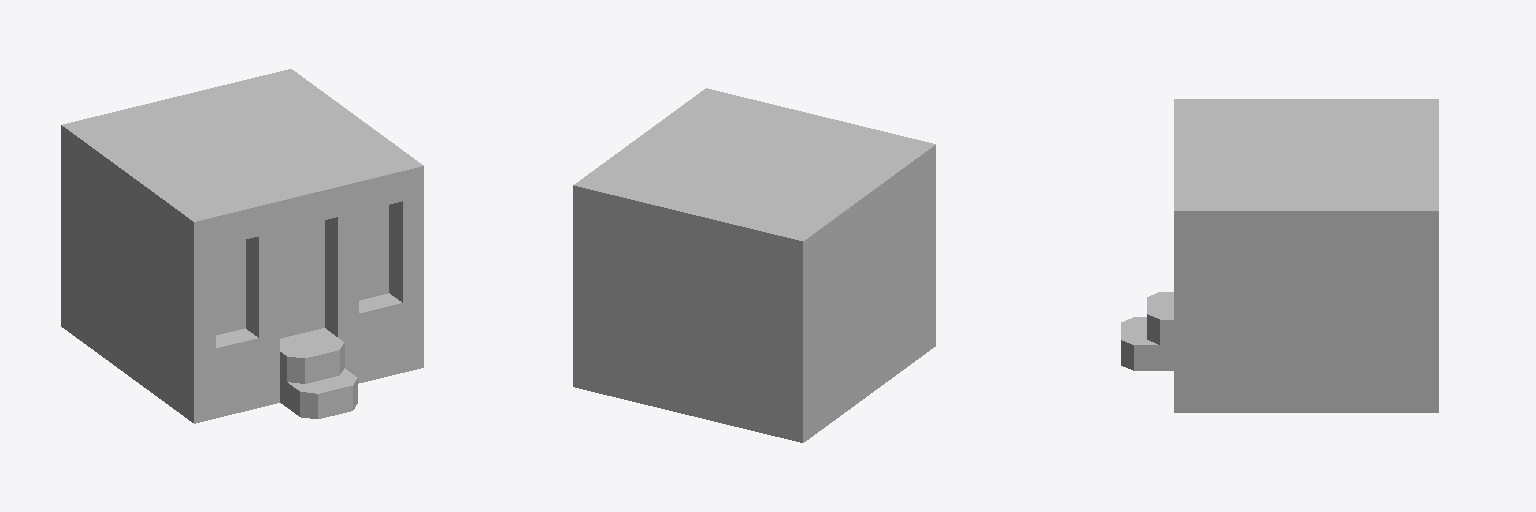
Rendered from building-steps-narrow-windows.obj.
3 renders of one model, left to right at view 1: azimuth 30°, elevation 25°; view 2: azimuth 150°, elevation 25°; view 3: azimuth 270°, elevation 25°, orthographic.
Parts seen in each view (by area): view 1: building-steps-narrow-windows; view 2: building-steps-narrow-windows; view 3: building-steps-narrow-windows.
Boxes of the visible parts, x1=… form: building-steps-narrow-windows: x1=61, y1=69, x2=423, y2=423; building-steps-narrow-windows: x1=573, y1=88, x2=935, y2=442; building-steps-narrow-windows: x1=1121, y1=99, x2=1438, y2=412.
Size of the model in its own units: 1 by 0.8375 by 1.2.